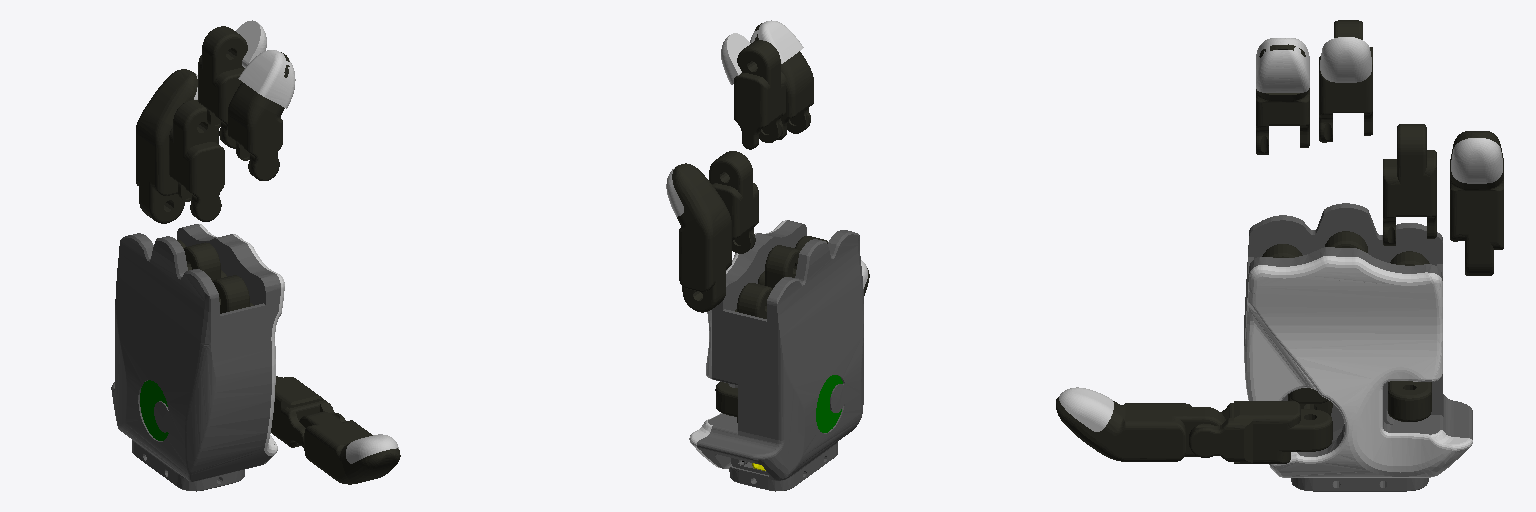
robot.urdf — dg5fs_left:
<?xml version="1.0" encoding="utf-8"?>
<!--
    dg5fs_15dof_left.urdf
    Licensed under the BSD-3-Clause
    Copyright (c) 2026 Tesollo Inc.
    See LICENSE file for details.

    Reference:
    * https://tesollo.com/dg-5f/
-->
<robot name="dg5fs_left">
  <link name="link_base">
    <inertial>
      <origin xyz="0.0010507409240225 -0.00329567851016901 0.0474860041095382" rpy="0 0 0" />
      <mass value="0.520194335203504" />
      <inertia ixx="0.000526108855667319" ixy="-4.29440440566729E-06" ixz="-1.44548153282052E-05" iyy="0.000390323594786541" iyz="4.09040025270615E-05" izz="0.000269845145247739" />
    </inertial>
    <visual>
      <origin xyz="0 0 0" rpy="0 0 0" />
      <geometry>
        <mesh filename="package://meshes/dg5fs_15dof_left/link_base.dae" />
      </geometry>
    </visual>
    <collision>
      <origin xyz="0 0 0" rpy="0 0 0" />
      <geometry>
        <mesh filename="package://meshes/dg5fs_15dof_left/link_base.STL" />
      </geometry>
    </collision>
  </link>
  <link name="link_1_1">
    <inertial>
      <origin xyz="-2.03295586267971E-09 0.00601221888193745 0.00795349430839353" rpy="0 0 0" />
      <mass value="0.019806363850337" />
      <inertia ixx="3.17093429813769E-06" ixy="2.4259120903181E-12" ixz="-1.15270301982398E-12" iyy="2.4462507577577E-06" iyz="5.47532784070514E-07" izz="1.42561107422786E-06" />
    </inertial>
    <visual>
      <origin xyz="0 0 0" rpy="0 0 0" />
      <geometry>
        <mesh filename="package://meshes/dg5fs_15dof_left/link_1_1.dae" />
      </geometry>
    </visual>
    <collision>
      <origin xyz="0 0 0" rpy="0 0 0" />
      <geometry>
        <mesh filename="package://meshes/dg5fs_15dof_left/link_1_1.STL" />
      </geometry>
    </collision>
  </link>
  <joint name="joint_1_1" type="revolute">
    <origin xyz="0.0017 -0.018 0.0298" rpy="-1.5708 0 -1.5708" />
    <parent link="link_base" />
    <child link="link_1_1" />
    <axis xyz="0 0 1" />
    <limit lower="-1.5707963267948966" upper="1.5707963267948966" effort="0.65" velocity="8.901179185171081" />
  </joint>
  <link name="link_1_2">
    <inertial>
      <origin xyz="0.0164200149714017 0.000294037501836795 0.000325608819247633" rpy="0 0 0" />
      <mass value="0.0280995678962355" />
      <inertia ixx="1.41913276429117E-06" ixy="-1.73158125819527E-07" ixz="1.22174752998966E-07" iyy="4.21251465780653E-06" iyz="2.68920291873366E-09" izz="4.27560063239261E-06" />
    </inertial>
    <visual>
      <origin xyz="0 0 0" rpy="0 0 0" />
      <geometry>
        <mesh filename="package://meshes/dg5fs_15dof_left/link_1_2.dae" />
      </geometry>
    </visual>
    <collision>
      <origin xyz="0 0 0" rpy="0 0 0" />
      <geometry>
        <mesh filename="package://meshes/dg5fs_15dof_left/link_1_2.STL" />
      </geometry>
    </collision>
  </link>
  <joint name="joint_1_2" type="revolute">
    <origin xyz="0 0 0.0262" rpy="1.5708 0 0" />
    <parent link="link_1_1" />
    <child link="link_1_2" />
    <axis xyz="0 0 1" />
    <limit lower="0" upper="2.670353755551324" effort="0.65" velocity="8.901179185171081" />
  </joint>
  <link name="link_1_3">
    <inertial>
      <origin xyz="0.0220629907895221 -0.000689392991634584 -0.000249558174868846" rpy="0 0 0" />
      <mass value="0.0366614715844266" />
      <inertia ixx="1.77190252197021E-06" ixy="6.04339736809637E-07" ixz="-1.7381976741001E-07" iyy="8.61144850894427E-06" iyz="6.31089105733854E-09" izz="8.43643936684493E-06" />
    </inertial>
    <visual>
      <origin xyz="0 0 0" rpy="0 0 0" />
      <geometry>
        <mesh filename="package://meshes/dg5fs_15dof_left/link_1_3.dae" />
      </geometry>
    </visual>
    <collision>
      <origin xyz="0 0 0" rpy="0 0 0" />
      <geometry>
        <mesh filename="package://meshes/dg5fs_15dof_left/link_1_3.STL" />
      </geometry>
    </collision>
  </link>
  <joint name="joint_1_3" type="revolute">
    <origin xyz="0.0381 0 0" rpy="-1.5708 0 0" />
    <parent link="link_1_2" />
    <child link="link_1_3" />
    <axis xyz="0 0 1" />
    <limit lower="-1.5707963267948966" upper="1.5707963267948966" effort="0.65" velocity="8.901179185171081" />
  </joint>
  <link name="link_1_tip">
    <inertial>
      <origin xyz="0.00716859317915594 -0.00377050100739481 -1.70788387841847E-08" rpy="0 0 0" />
      <mass value="0.00210248842337887" />
      <inertia ixx="5.55807619588207E-08" ixy="-5.95805898459041E-09" ixz="9.12573308346119E-13" iyy="8.5976615384483E-08" iyz="-7.7773670504211E-14" izz="5.28586448422449E-08" />
    </inertial>
    <visual>
      <origin xyz="0 0 0" rpy="0 0 0" />
      <geometry>
        <mesh filename="package://meshes/dg5fs_15dof_left/link_1_tip.dae" />
      </geometry>
    </visual>
    <collision>
      <origin xyz="0 0 0" rpy="0 0 0" />
      <geometry>
        <mesh filename="package://meshes/dg5fs_15dof_left/link_1_tip.STL" />
      </geometry>
    </collision>
  </link>
  <joint name="joint_1_tip" type="fixed">
    <origin xyz="0.03866 -0.0034211 0" rpy="0 0 -0.62832" />
    <parent link="link_1_3" />
    <child link="link_1_tip" />
    <axis xyz="0 0 0" />
  </joint>
  <link name="link_2_1">
    <inertial>
      <origin xyz="0.0198782122904927 0.000277091928765169 0.00089176679951382" rpy="0 0 0" />
      <mass value="0.0330237438950368" />
      <inertia ixx="3.21932835507373E-06" ixy="-3.90939635903657E-08" ixz="1.49256617726978E-07" iyy="4.58201119077108E-06" iyz="9.5380378156488E-08" izz="2.9775020304223E-06" />
    </inertial>
    <visual>
      <origin xyz="0 0 0" rpy="0 0 0" />
      <geometry>
        <mesh filename="package://meshes/dg5fs_15dof_left/link_2_1.dae" />
      </geometry>
    </visual>
    <collision>
      <origin xyz="0 0 0" rpy="0 0 0" />
      <geometry>
        <mesh filename="package://meshes/dg5fs_15dof_left/link_2_1.STL" />
      </geometry>
    </collision>
  </link>
  <joint name="joint_2_1" type="revolute">
    <origin xyz="0.0017 -0.028 0.08365" rpy="3.1416 -1.5708 0" />
    <parent link="link_base" />
    <child link="link_2_1" />
    <axis xyz="0 0 1" />
    <limit lower="-0.2617993877991494" upper="0.8377580409572782" effort="0.65" velocity="8.901179185171081" />
  </joint>
  <link name="link_2_2">
    <inertial>
      <origin xyz="0.0195721047160479 -6.37507850502483E-09 -3.77861056636529E-05" rpy="0 0 0" />
      <mass value="0.0234819993216375" />
      <inertia ixx="1.15346729846515E-06" ixy="-1.36460050990247E-12" ixz="2.54201541705568E-07" iyy="3.13582644610358E-06" iyz="-2.57170886293245E-12" izz="2.88575134185038E-06" />
    </inertial>
    <visual>
      <origin xyz="0 0 0" rpy="3.1416 0 0" />
      <geometry>
        <mesh filename="package://meshes/dg5fs_15dof_left/link_2_2.dae" />
      </geometry>
    </visual>
    <collision>
      <origin xyz="0 0 0" rpy="0 0 0" />
      <geometry>
        <mesh filename="package://meshes/dg5fs_15dof_left/link_2_2.STL" />
      </geometry>
    </collision>
  </link>
  <joint name="joint_2_2" type="revolute">
    <origin xyz="0.02415 0 0.0126" rpy="-1.5708 0 0" />
    <parent link="link_2_1" />
    <child link="link_2_2" />
    <axis xyz="0 0 -1" />
    <limit lower="0" upper="2.199114857512855" effort="0.65" velocity="8.901179185171081" />
  </joint>
  <link name="link_2_3">
    <inertial>
      <origin xyz="0.0195558883615379 -0.00109207439901757 0.0003569871656855" rpy="0 0 0" />
      <mass value="0.0231440973212889" />
      <inertia ixx="1.21670898826149E-06" ixy="3.92226393528935E-07" ixz="1.55591903660932E-07" iyy="3.22725429469562E-06" iyz="-9.01843808879826E-09" izz="2.97479145032987E-06" />
    </inertial>
    <visual>
      <origin xyz="0 0 0" rpy="0 0 0" />
      <geometry>
        <mesh filename="package://meshes/dg5fs_15dof_left/link_2_3.dae" />
      </geometry>
    </visual>
    <collision>
      <origin xyz="0 0 0" rpy="0 0 0" />
      <geometry>
        <mesh filename="package://meshes/dg5fs_15dof_left/link_2_3.STL" />
      </geometry>
    </collision>
  </link>
  <joint name="joint_2_3" type="revolute">
    <origin xyz="0.0334 0 0" rpy="3.1416 0 0" />
    <parent link="link_2_2" />
    <child link="link_2_3" />
    <axis xyz="0 0 1" />
    <limit lower="-1.5707963267948966" upper="1.5707963267948966" effort="0.65" velocity="8.901179185171081" />
  </joint>
  <link name="link_2_tip">
    <inertial>
      <origin xyz="0.00716859317915591 0.00377050100739505 1.7078838863982E-08" rpy="0 0 0" />
      <mass value="0.00210248842337889" />
      <inertia ixx="5.55807619588209E-08" ixy="5.95805898458968E-09" ixz="-9.12573308386704E-13" iyy="8.59766153844843E-08" iyz="-7.7773670249275E-14" izz="5.28586448422455E-08" />
    </inertial>
    <visual>
      <origin xyz="0 0 0" rpy="0 0 0" />
      <geometry>
        <mesh filename="package://meshes/dg5fs_15dof_left/link_2_tip.dae" />
      </geometry>
    </visual>
    <collision>
      <origin xyz="0 0 0" rpy="0 0 0" />
      <geometry>
        <mesh filename="package://meshes/dg5fs_15dof_left/link_2_tip.STL" />
      </geometry>
    </collision>
  </link>
  <joint name="joint_2_tip" type="fixed">
    <origin xyz="0.02776 0.0034211 0" rpy="0 0 0.62832" />
    <parent link="link_2_3" />
    <child link="link_2_tip" />
    <axis xyz="0 0 0" />
  </joint>
  <link name="link_3_1">
    <inertial>
      <origin xyz="0.0198782122942083 -0.00027709166221322 -0.000891766799513816" rpy="0 0 0" />
      <mass value="0.0330237438950368" />
      <inertia ixx="3.21932835402529E-06" ixy="3.90939453178074E-08" ixz="-1.49256619005957E-07" iyy="4.58201119181951E-06" iyz="9.53803761550683E-08" izz="2.97750203042229E-06" />
    </inertial>
    <visual>
      <origin xyz="0 0 0" rpy="0 0 0" />
      <geometry>
        <mesh filename="package://meshes/dg5fs_15dof_left/link_3_1.dae" />
      </geometry>
    </visual>
    <collision>
      <origin xyz="0 0 0" rpy="0 0 0" />
      <geometry>
        <mesh filename="package://meshes/dg5fs_15dof_left/link_3_1.STL" />
      </geometry>
    </collision>
  </link>
  <joint name="joint_3_1" type="revolute">
    <origin xyz="0.0017 -0.005 0.08865" rpy="3.1416 -1.5708 0" />
    <parent link="link_base" />
    <child link="link_3_1" />
    <axis xyz="0 0 1" />
    <limit lower="-0.7330382858376184" upper="0.5759586531581288" effort="0.65" velocity="8.901179185171081" />
  </joint>
  <link name="link_3_2">
    <inertial>
      <origin xyz="0.0195721047160479 -6.37507850849428E-09 -3.77861056636494E-05" rpy="0 0 0" />
      <mass value="0.0234819993216375" />
      <inertia ixx="1.15346729846515E-06" ixy="-1.36460050949971E-12" ixz="2.54201541705567E-07" iyy="3.13582644610358E-06" iyz="-2.57170886293075E-12" izz="2.88575134185038E-06" />
    </inertial>
    <visual>
      <origin xyz="0 0 0" rpy="3.1416 0 0" />
      <geometry>
        <mesh filename="package://meshes/dg5fs_15dof_left/link_3_2.dae" />
      </geometry>
    </visual>
    <collision>
      <origin xyz="0 0 0" rpy="0 0 0" />
      <geometry>
        <mesh filename="package://meshes/dg5fs_15dof_left/link_3_2.STL" />
      </geometry>
    </collision>
  </link>
  <joint name="joint_3_2" type="revolute">
    <origin xyz="0.02415 0 0.0126" rpy="-1.5708 0 0" />
    <parent link="link_3_1" />
    <child link="link_3_2" />
    <axis xyz="0 0 -1" />
    <limit lower="0" upper="2.2689280275926285" effort="0.65" velocity="8.901179185171081" />
  </joint>
  <link name="link_3_3">
    <inertial>
      <origin xyz="0.0195558886104285 0.00109207570907242 -0.000356988988245808" rpy="0 0 0" />
      <mass value="0.0231441032621214" />
      <inertia ixx="1.21670936104459E-06" ixy="-3.92226440151106E-07" ixz="-1.55591846102582E-07" iyy="3.22725455046861E-06" iyz="-9.01826833344146E-09" izz="2.97479157260738E-06" />
    </inertial>
    <visual>
      <origin xyz="0 0 0" rpy="0 0 0" />
      <geometry>
        <mesh filename="package://meshes/dg5fs_15dof_left/link_3_3.dae" />
      </geometry>
    </visual>
    <collision>
      <origin xyz="0 0 0" rpy="0 0 0" />
      <geometry>
        <mesh filename="package://meshes/dg5fs_15dof_left/link_3_3.STL" />
      </geometry>
    </collision>
  </link>
  <joint name="joint_3_3" type="revolute">
    <origin xyz="0.0334 0 0" rpy="-3.1416 0 0" />
    <parent link="link_3_2" />
    <child link="link_3_3" />
    <axis xyz="0 0 1" />
    <limit lower="-1.5707963267948966" upper="1.5707963267948966" effort="0.65" velocity="8.901179185171081" />
  </joint>
  <link name="link_3_tip">
    <inertial>
      <origin xyz="0.00716859386152943 0.00377050148898404 1.69426508994305E-08" rpy="0 0 0" />
      <mass value="0.00210248844228554" />
      <inertia ixx="5.55807607438779E-08" ixy="5.95804962320796E-09" ixz="-8.93705821259051E-13" iyy="8.59766140635694E-08" iyz="-7.1846530131857E-14" izz="5.28586444248707E-08" />
    </inertial>
    <visual>
      <origin xyz="0 0 0" rpy="0 0 0" />
      <geometry>
        <mesh filename="package://meshes/dg5fs_15dof_left/link_3_tip.dae" />
      </geometry>
    </visual>
    <collision>
      <origin xyz="0 0 0" rpy="0 0 0" />
      <geometry>
        <mesh filename="package://meshes/dg5fs_15dof_left/link_3_tip.STL" />
      </geometry>
    </collision>
  </link>
  <joint name="joint_3_tip" type="fixed">
    <origin xyz="0.02776 0.0034211 0" rpy="0 0 0.62832" />
    <parent link="link_3_3" />
    <child link="link_3_tip" />
    <axis xyz="0 0 0" />
  </joint>
  <link name="link_4_1">
    <inertial>
      <origin xyz="0.0198782122904927 0.000277091928765176 0.000891766799513813" rpy="0 0 0" />
      <mass value="0.0330237438950368" />
      <inertia ixx="3.21932835507373E-06" ixy="-3.90939635903655E-08" ixz="1.49256617726978E-07" iyy="4.58201119077107E-06" iyz="9.53803781564876E-08" izz="2.97750203042229E-06" />
    </inertial>
    <visual>
      <origin xyz="0 0 0" rpy="0 0 0" />
      <geometry>
        <mesh filename="package://meshes/dg5fs_15dof_left/link_4_1.dae" />
      </geometry>
    </visual>
    <collision>
      <origin xyz="0 0 0" rpy="0 0 0" />
      <geometry>
        <mesh filename="package://meshes/dg5fs_15dof_left/link_4_1.STL" />
      </geometry>
    </collision>
  </link>
  <joint name="joint_4_1" type="revolute">
    <origin xyz="0.0017 0.018 0.08065" rpy="3.1416 -1.5708 0" />
    <parent link="link_base" />
    <child link="link_4_1" />
    <axis xyz="0 0 1" />
    <limit lower="-0.8377580409572782" upper="0.20943951023931956" effort="0.65" velocity="8.901179185171081" />
  </joint>
  <link name="link_4_2">
    <inertial>
      <origin xyz="0.0195721047160479 -6.37507850849428E-09 -3.77861056636494E-05" rpy="0 0 0" />
      <mass value="0.0234819993216375" />
      <inertia ixx="1.15346729846515E-06" ixy="-1.36460050907077E-12" ixz="2.54201541705568E-07" iyy="3.13582644610358E-06" iyz="-2.57170886307401E-12" izz="2.88575134185038E-06" />
    </inertial>
    <visual>
      <origin xyz="0 0 0" rpy="3.1416 0 0" />
      <geometry>
        <mesh filename="package://meshes/dg5fs_15dof_left/link_4_2.dae" />
      </geometry>
    </visual>
    <collision>
      <origin xyz="0 0 0" rpy="0 0 0" />
      <geometry>
        <mesh filename="package://meshes/dg5fs_15dof_left/link_4_2.STL" />
      </geometry>
    </collision>
  </link>
  <joint name="joint_4_2" type="revolute">
    <origin xyz="0.02415 0 0.0126" rpy="-1.5708 0 0" />
    <parent link="link_4_1" />
    <child link="link_4_2" />
    <axis xyz="0 0 -1" />
    <limit lower="0" upper="2.2165681500327987" effort="0.65" velocity="8.901179185171081" />
  </joint>
  <link name="link_4_3">
    <inertial>
      <origin xyz="0.0195558883623016 -0.00109207439336462 0.000356987158524315" rpy="0 0 0" />
      <mass value="0.0231440972985186" />
      <inertia ixx="1.2167089864404E-06" ixy="3.92226393627338E-07" ixz="1.55591903521125E-07" iyy="3.22725429355584E-06" iyz="-9.01843904417012E-09" izz="2.97479144951923E-06" />
    </inertial>
    <visual>
      <origin xyz="0 0 0" rpy="0 0 0" />
      <geometry>
        <mesh filename="package://meshes/dg5fs_15dof_left/link_4_3.dae" />
      </geometry>
    </visual>
    <collision>
      <origin xyz="0 0 0" rpy="0 0 0" />
      <geometry>
        <mesh filename="package://meshes/dg5fs_15dof_left/link_4_3.STL" />
      </geometry>
    </collision>
  </link>
  <joint name="joint_4_3" type="revolute">
    <origin xyz="0.0334 0 0" rpy="3.1416 0 0" />
    <parent link="link_4_2" />
    <child link="link_4_3" />
    <axis xyz="0 0 1" />
    <limit lower="-1.5707963267948966" upper="1.5707963267948966" effort="0.65" velocity="8.901179185171081" />
  </joint>
  <link name="link_4_tip">
    <inertial>
      <origin xyz="0.00716859317915586 0.00377050100739502 1.70788388882681E-08" rpy="0 0 0" />
      <mass value="0.00210248842337886" />
      <inertia ixx="5.55807619588203E-08" ixy="5.95805898458966E-09" ixz="-9.12573308236672E-13" iyy="8.5976615384483E-08" iyz="-7.77736702442158E-14" izz="5.28586448422446E-08" />
    </inertial>
    <visual>
      <origin xyz="0 0 0" rpy="0 0 0" />
      <geometry>
        <mesh filename="package://meshes/dg5fs_15dof_left/link_4_tip.dae" />
      </geometry>
    </visual>
    <collision>
      <origin xyz="0 0 0" rpy="0 0 0" />
      <geometry>
        <mesh filename="package://meshes/dg5fs_15dof_left/link_4_tip.STL" />
      </geometry>
    </collision>
  </link>
  <joint name="joint_4_tip" type="fixed">
    <origin xyz="0.02776 0.0034211 0" rpy="0 0 0.62832" />
    <parent link="link_4_3" />
    <child link="link_4_tip" />
    <axis xyz="0 0 0" />
  </joint>
  <link name="link_5_1">
    <inertial>
      <origin xyz="0.0214521380260808 0.00322288767000429 0.0105249779274607" rpy="0 0 0" />
      <mass value="0.0714340581370809" />
      <inertia ixx="1.81851938060008E-05" ixy="1.53884324701971E-07" ixz="-1.43055405606157E-06" iyy="1.66710538810094E-05" iyz="-1.13128293390579E-06" izz="8.71000117143517E-06" />
    </inertial>
    <visual>
      <origin xyz="0 0 0" rpy="0 0 0" />
      <geometry>
        <mesh filename="package://meshes/dg5fs_15dof_left/link_5_1.dae" />
      </geometry>
    </visual>
    <collision>
      <origin xyz="0 0 0" rpy="0 0 0" />
      <geometry>
        <mesh filename="package://meshes/dg5fs_15dof_left/link_5_1.STL" />
      </geometry>
    </collision>
  </link>
  <joint name="joint_5_1" type="revolute">
    <origin xyz="0.013 0.01805 0.0364" rpy="0 0 1.5708" />
    <parent link="link_base" />
    <child link="link_5_1" />
    <axis xyz="0 0 1" />
    <limit lower="-1.0471975511965976" upper="0" effort="0.65" velocity="8.901179185171081" />
  </joint>
  <link name="link_5_2">
    <inertial>
      <origin xyz="-0.0005698467836667 0.0136000040565426 0.000569857095610221" rpy="0 0 0" />
      <mass value="0.0144987730585103" />
      <inertia ixx="1.25775767986881E-06" ixy="1.06400833292328E-07" ixz="-4.70855914041544E-09" iyy="8.62292616032232E-07" iyz="1.06401061423359E-07" izz="1.25775977440409E-06" />
    </inertial>
    <visual>
      <origin xyz="0 0 0" rpy="0 0 0" />
      <geometry>
        <mesh filename="package://meshes/dg5fs_15dof_left/link_5_2.dae" />
      </geometry>
    </visual>
    <collision>
      <origin xyz="0 0 0" rpy="0 0 0" />
      <geometry>
        <mesh filename="package://meshes/dg5fs_15dof_left/link_5_2.STL" />
      </geometry>
    </collision>
  </link>
  <joint name="joint_5_2" type="revolute">
    <origin xyz="0.02445 0 0.0307" rpy="1.5708 0 0" />
    <parent link="link_5_1" />
    <child link="link_5_2" />
    <axis xyz="0 0 1" />
    <limit lower="-1.5707963267948966" upper="0.6457718232379019" effort="0.65" velocity="8.901179185171081" />
  </joint>
  <link name="link_5_3">
    <inertial>
      <origin xyz="0.0220629911131969 -0.000689392987277101 -0.000249557858959179" rpy="0 0 0" />
      <mass value="0.0366614726209039" />
      <inertia ixx="1.77190260872471E-06" ixy="6.04339754495722E-07" ixz="-1.738198881492E-07" iyy="8.61144874995163E-06" iyz="6.31091280383818E-09" izz="8.4364394636024E-06" />
    </inertial>
    <visual>
      <origin xyz="0 0 0" rpy="0 0 0" />
      <geometry>
        <mesh filename="package://meshes/dg5fs_15dof_left/link_5_3.dae" />
      </geometry>
    </visual>
    <collision>
      <origin xyz="0 0 0" rpy="0 0 0" />
      <geometry>
        <mesh filename="package://meshes/dg5fs_15dof_left/link_5_3.STL" />
      </geometry>
    </collision>
  </link>
  <joint name="joint_5_3" type="revolute">
    <origin xyz="0 0.0272 0" rpy="1.5708 0 1.5708" />
    <parent link="link_5_2" />
    <child link="link_5_3" />
    <axis xyz="0 0 1" />
    <limit lower="-1.5707963267948966" upper="1.5707963267948966" effort="0.65" velocity="8.901179185171081" />
  </joint>
  <link name="link_5_tip">
    <inertial>
      <origin xyz="0.00716859278701587 0.00377050137004081 1.87703430992725E-08" rpy="0 0 0" />
      <mass value="0.00210248766316718" />
      <inertia ixx="5.55807306756584E-08" ixy="5.95804277897853E-09" ixz="-8.87957520547367E-13" iyy="8.59765714846164E-08" iyz="-7.65115709546703E-14" izz="5.2858622954726E-08" />
    </inertial>
    <visual>
      <origin xyz="0 0 0" rpy="0 0 0" />
      <geometry>
        <mesh filename="package://meshes/dg5fs_15dof_left/link_5_tip.dae" />
      </geometry>
    </visual>
    <collision>
      <origin xyz="0 0 0" rpy="0 0 0" />
      <geometry>
        <mesh filename="package://meshes/dg5fs_15dof_left/link_5_tip.STL" />
      </geometry>
    </collision>
  </link>
  <joint name="joint_5_tip" type="fixed">
    <origin xyz="0.03866 0.0034211 0" rpy="0 0 0.62832" />
    <parent link="link_5_3" />
    <child link="link_5_tip" />
    <axis xyz="0 0 0" />
  </joint>
</robot>

--- Facts derived from the render (not from the file) ---
The picture shows the robot from 3 angles, left to right: view 1: azimuth 30°, elevation 25°; view 2: azimuth 150°, elevation 25°; view 3: azimuth 270°, elevation 25°; orthographic projection.
Model dg5fs_left with 21 links and 20 joints (15 revolute, 5 fixed), rooted at link_base, posed all joints at 0.
Visible links, largest first — view 1: link_base, link_5_3, link_4_2, link_1_3, link_2_3, link_3_3, link_1_2, link_2_tip, link_1_tip, link_3_tip; view 2: link_base, link_5_3, link_3_3, link_4_2, link_2_3, link_2_tip, link_3_tip; view 3: link_base, link_1_2, link_1_3, link_4_2, link_5_3, link_3_3, link_2_tip, link_2_3, link_3_tip, link_5_tip, link_1_tip.
Link boxes in pixels (box(x1,y1,x2,y2)): link_base: box(111, 224, 284, 491); link_5_3: box(136, 69, 197, 223); link_4_2: box(169, 100, 224, 221); link_1_3: box(299, 411, 400, 484); link_2_3: box(228, 52, 289, 180); link_3_3: box(198, 26, 247, 148); link_1_2: box(271, 376, 345, 447); link_2_tip: box(238, 50, 295, 108); link_1_tip: box(346, 434, 398, 463); link_3_tip: box(236, 20, 266, 67); link_base: box(689, 220, 863, 491); link_5_3: box(672, 163, 731, 312); link_3_3: box(734, 40, 785, 149); link_4_2: box(709, 151, 758, 253); link_2_3: box(755, 23, 813, 139); link_2_tip: box(750, 20, 803, 63); link_3_tip: box(721, 33, 750, 84); link_base: box(1244, 203, 1472, 491); link_1_2: box(1189, 401, 1332, 463); link_1_3: box(1056, 397, 1225, 461); link_4_2: box(1383, 124, 1436, 245); link_5_3: box(1450, 131, 1503, 275); link_3_3: box(1319, 20, 1372, 142); link_2_tip: box(1256, 38, 1309, 92); link_2_3: box(1256, 44, 1309, 154); link_3_tip: box(1320, 37, 1371, 82); link_5_tip: box(1451, 138, 1502, 183); link_1_tip: box(1059, 387, 1113, 431).
Size in the robot's own frame: 0.0569 by 0.1626 by 0.1885 metres.
11 mesh visuals loaded from 21 distinct referenced files (11 Collada DAE); not drawn: 10 (reference not matched to a file when rendering).
